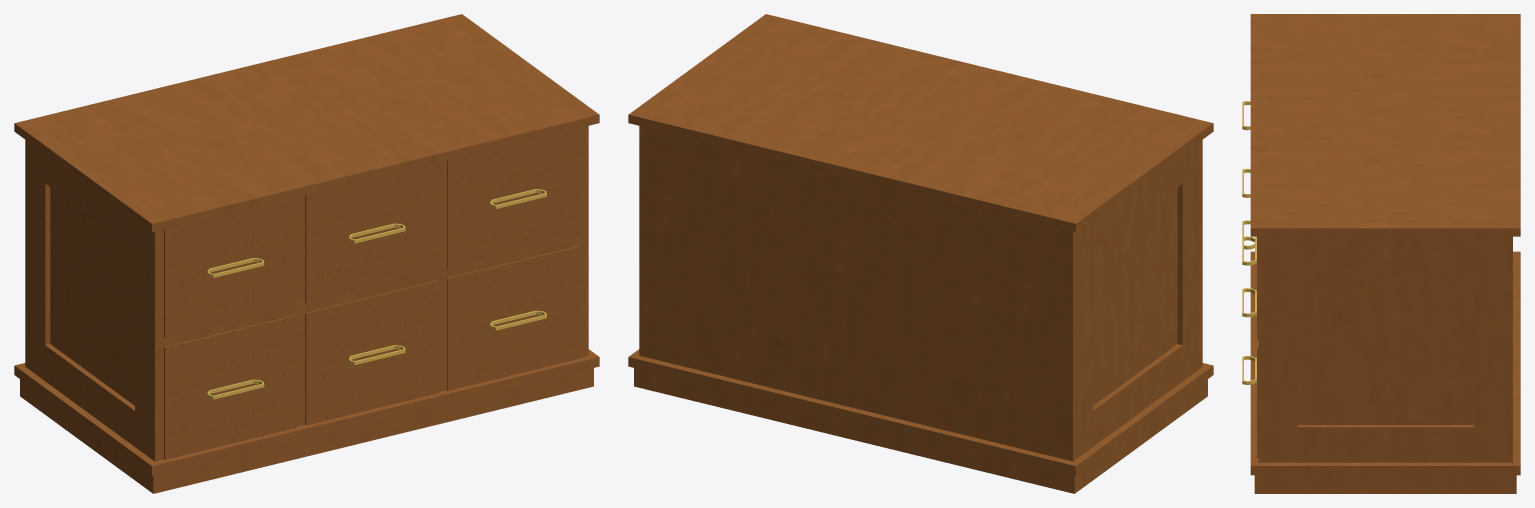
File: Drawer47.fbx
3 renders of one model, left to right at view 1: azimuth 30°, elevation 25°; view 2: azimuth 150°, elevation 25°; view 3: azimuth 270°, elevation 25°, orthographic.
Parts seen in each view (by area): view 1: Drawer47_Body, Drawer47_5, Drawer47_4, Drawer47_6, Drawer47_3, Drawer47_1, Drawer47_2; view 2: Drawer47_Body; view 3: Drawer47_Body, Drawer47_6, Drawer47_3.
Part boxes in pixels (x1,y1,x2,y2): Drawer47_Body: [14, 14, 599, 493]; Drawer47_5: [305, 280, 438, 425]; Drawer47_4: [164, 315, 297, 459]; Drawer47_6: [447, 246, 580, 390]; Drawer47_3: [447, 128, 580, 269]; Drawer47_1: [164, 197, 297, 338]; Drawer47_2: [305, 162, 438, 303]; Drawer47_Body: [628, 14, 1213, 493]; Drawer47_Body: [1250, 14, 1520, 493]; Drawer47_6: [1242, 339, 1258, 458]; Drawer47_3: [1242, 236, 1258, 338].
Size of the model in its own units: 171 by 99.73 by 94.16.
